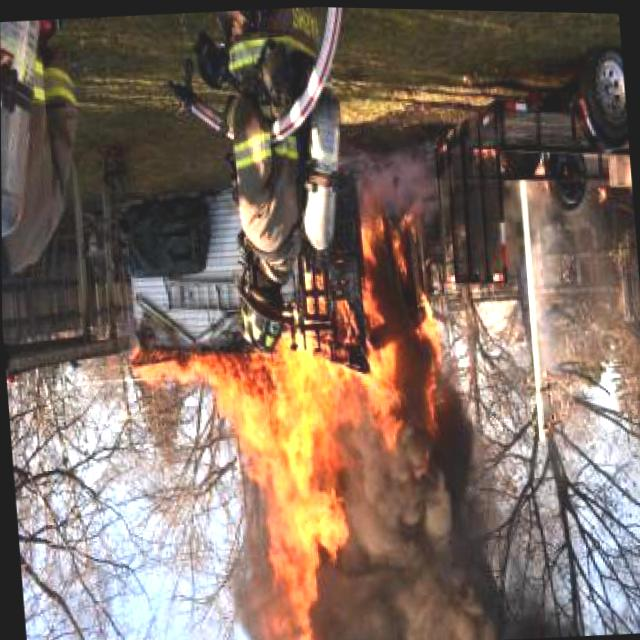Fire: (132, 344, 324, 640), (285, 195, 449, 428)
Smoke: (310, 415, 501, 640)
